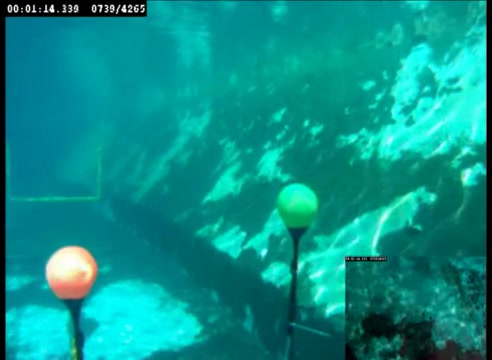buoy_green: (276, 182, 317, 239)
buoy_red: (42, 244, 99, 311)
channel: (5, 148, 104, 202)
